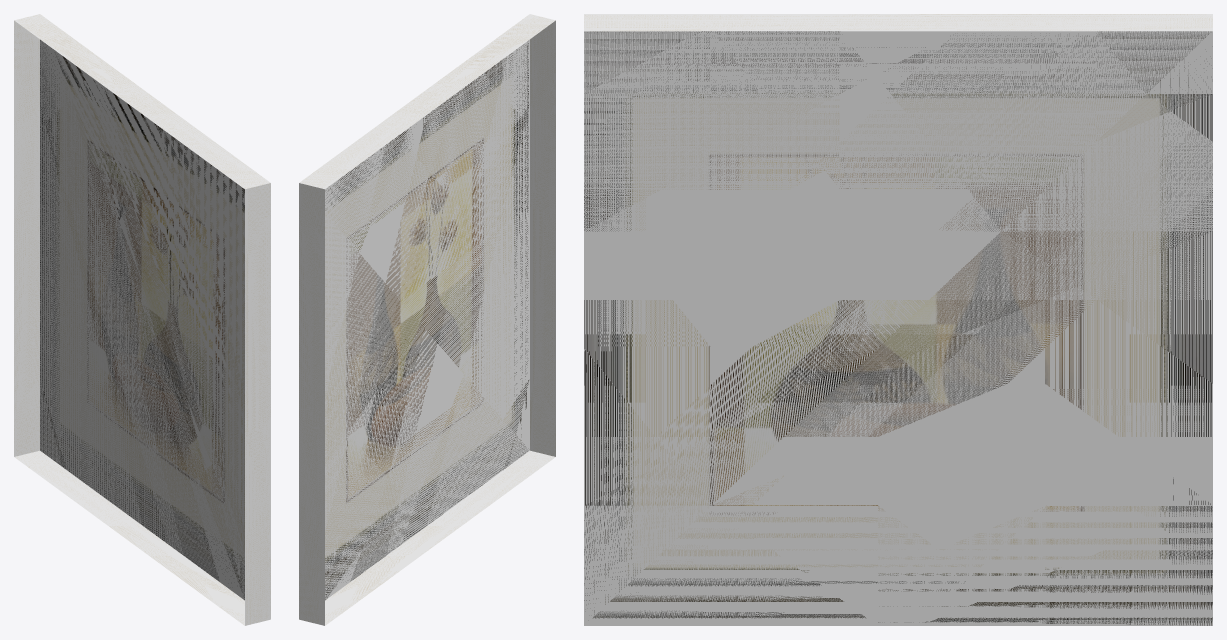
File: picture.dae
The picture shows the model from 3 angles, left to right: view 1: azimuth 30°, elevation 25°; view 2: azimuth 150°, elevation 25°; view 3: azimuth 270°, elevation 25°; orthographic projection. The views are drawn at different scales.
Visible parts, largest first — view 1: Picture_001; view 2: Picture_001; view 3: Picture_001.
Boxes of the visible parts, x1,y1,x2,y2 form: Picture_001: [14, 14, 270, 625]; Picture_001: [299, 14, 555, 625]; Picture_001: [584, 14, 1212, 625].
Size of the model in its own units: 0.0914 by 1.4 by 1.46.
3 materials, 2 textured.
